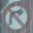Don't turn right: (3, 2, 32, 31)
